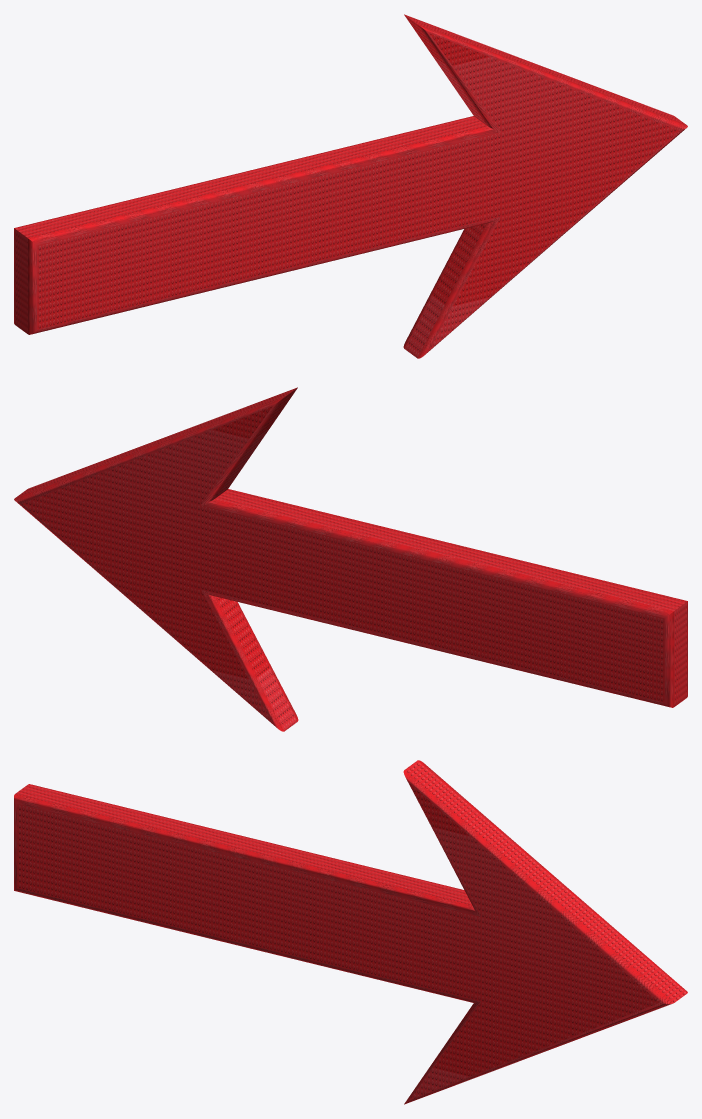
File: Arrow.fbx
The picture shows the model from 3 angles, top to bottom: view 1: azimuth 30°, elevation 25°; view 2: azimuth 150°, elevation 25°; view 3: azimuth 330°, elevation 25°; orthographic projection.
Parts seen in each view (by area): view 1: Cap_1, Extrude, Rounding_1, Rounding_2; view 2: Cap_2, Extrude, Rounding_2, Rounding_1; view 3: Cap_1, Extrude, Rounding_1, Rounding_2.
Boxes of the visible parts, x1=… form: Cap_1: x1=37, y1=33, x2=678, y2=349; Extrude: x1=15, y1=15, x2=686, y2=358; Rounding_1: x1=28, y1=24, x2=687, y2=358; Rounding_2: x1=14, y1=14, x2=580, y2=348; Cap_2: x1=23, y1=406, x2=664, y2=722; Extrude: x1=15, y1=388, x2=686, y2=731; Rounding_2: x1=14, y1=397, x2=673, y2=731; Rounding_1: x1=121, y1=387, x2=687, y2=721; Cap_1: x1=17, y1=783, x2=659, y2=1099; Extrude: x1=15, y1=760, x2=687, y2=1002; Rounding_1: x1=14, y1=770, x2=673, y2=1104; Rounding_2: x1=28, y1=760, x2=687, y2=992.
Bounding box in the file's own units: 574 × 278 × 30.
Materials: 1 (1 with a texture image).
